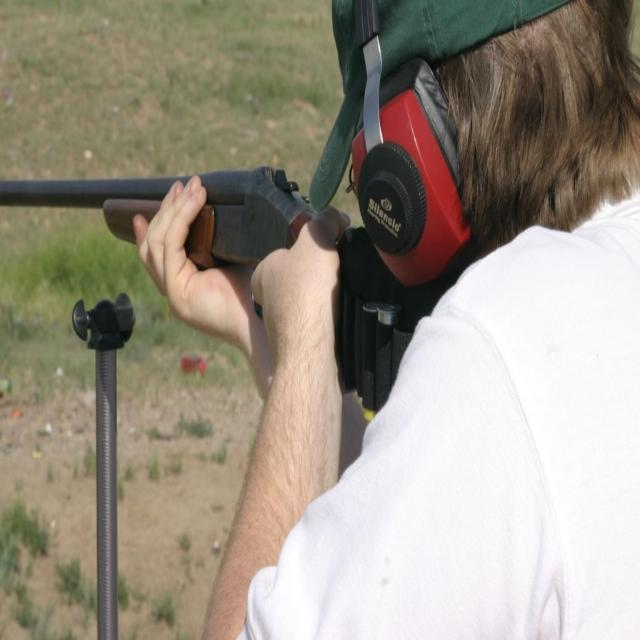weapon: (0, 163, 424, 413)
